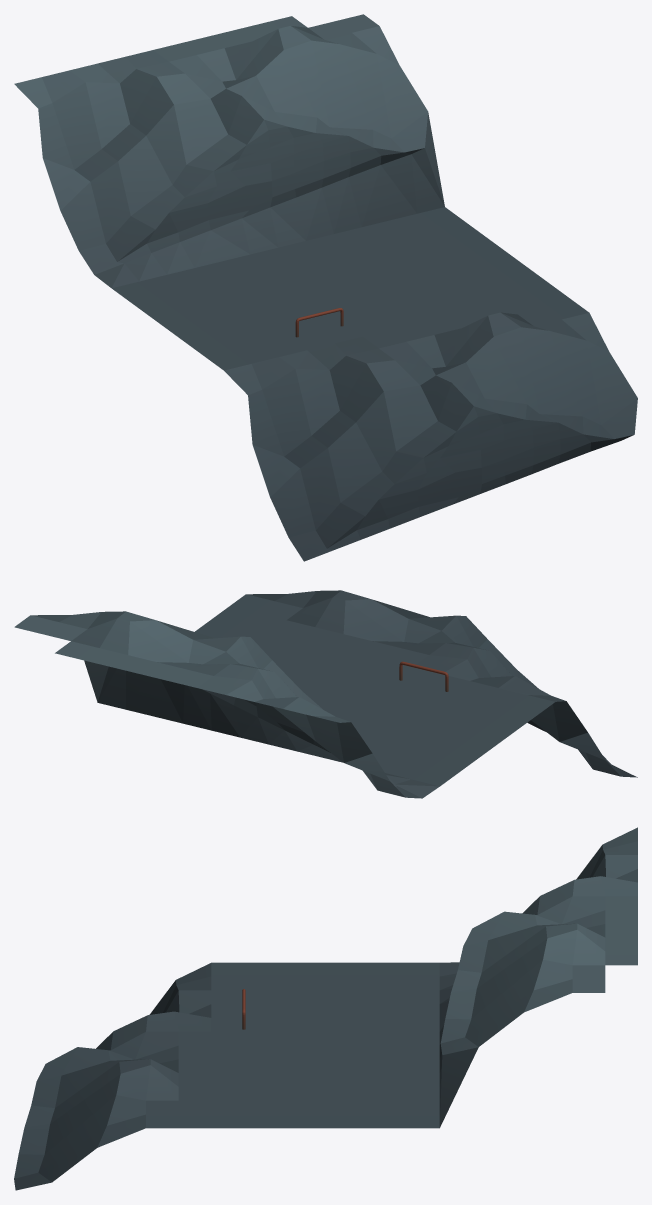
Rendered from Zone5.glb.
3 renders of one model, top to bottom at view 1: azimuth 30°, elevation 25°; view 2: azimuth 150°, elevation 25°; view 3: azimuth 270°, elevation 25°, orthographic. The views are drawn at different scales.
Parts seen in each view (by area): view 1: Plane; view 2: Plane, Cylinder; view 3: Plane.
Boxes of the visible parts, left/top/right/bottom form: Plane: left=14, top=14, right=637, bottom=561; Plane: left=14, top=590, right=637, bottom=798; Cylinder: left=399, top=661, right=448, bottom=691; Plane: left=14, top=827, right=637, bottom=1190.
Size of the model in its own units: 20.23 by 16.34 by 31.86.
1 material, 1 textured.
